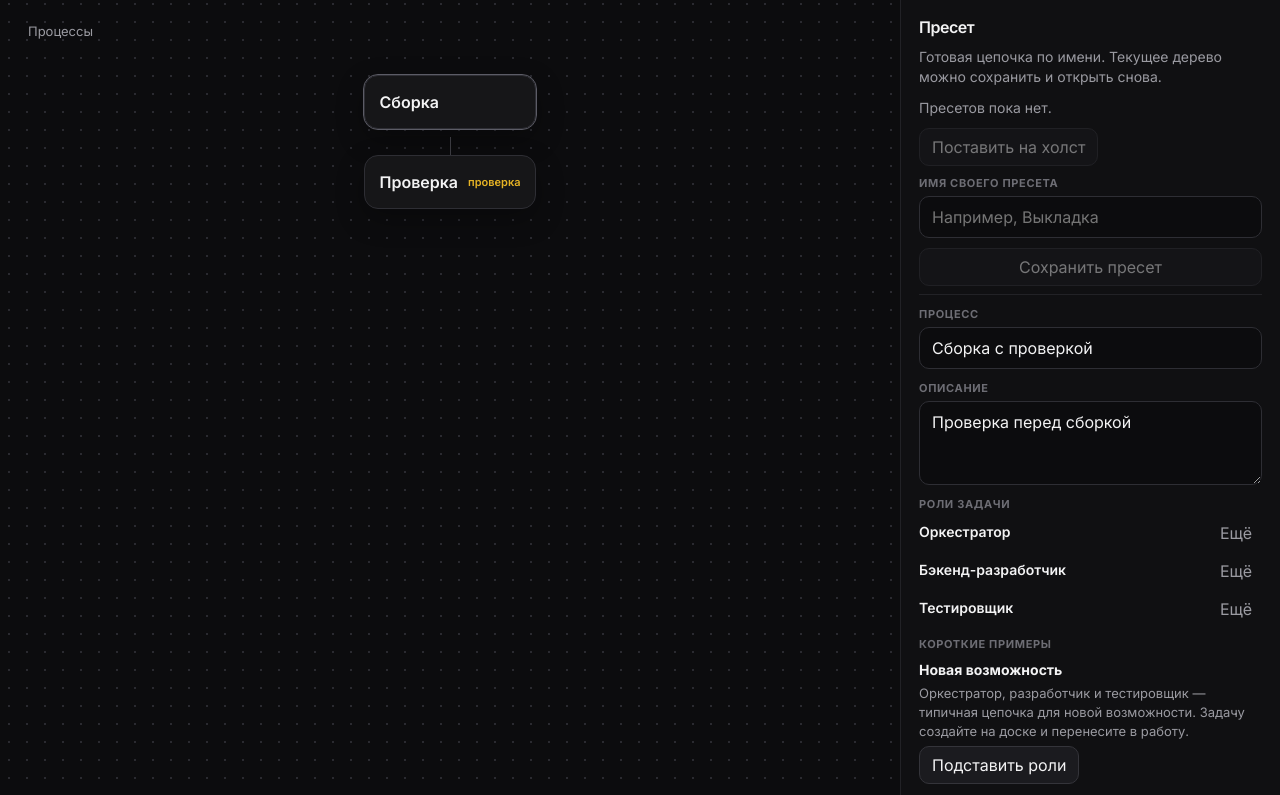
Test: Холст: роли, «Следом», «Ответвить» и уборка шага › убирает выбранный шаг и сохраняет цепочку
The image size is (1280, 795).
Check: the element with test id "canvas" is shown, box [364,75,536,209]
Click the button with test id "step-step-b" at (450, 182), box [364,155,536,209]
(page scrolled)
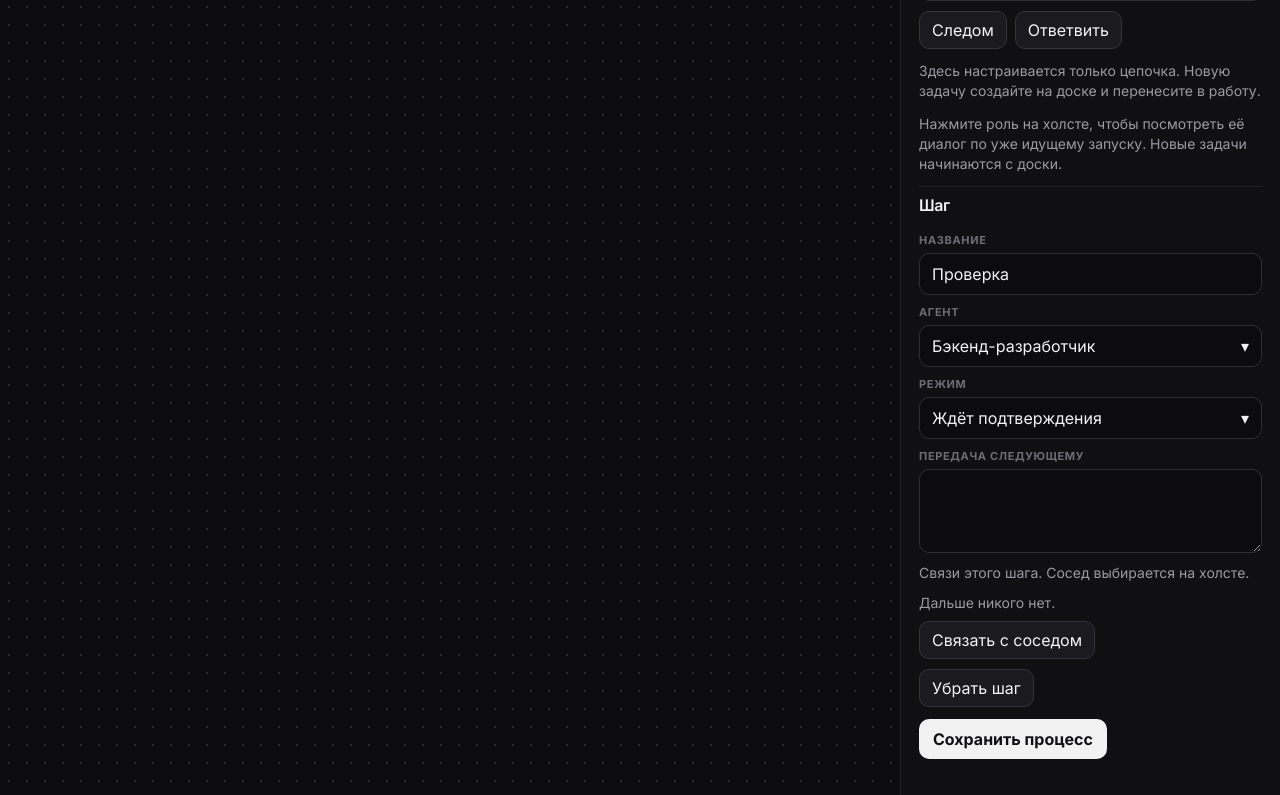
Click the button with test id "remove-step" at (976, 688), box [919,669,1034,707]
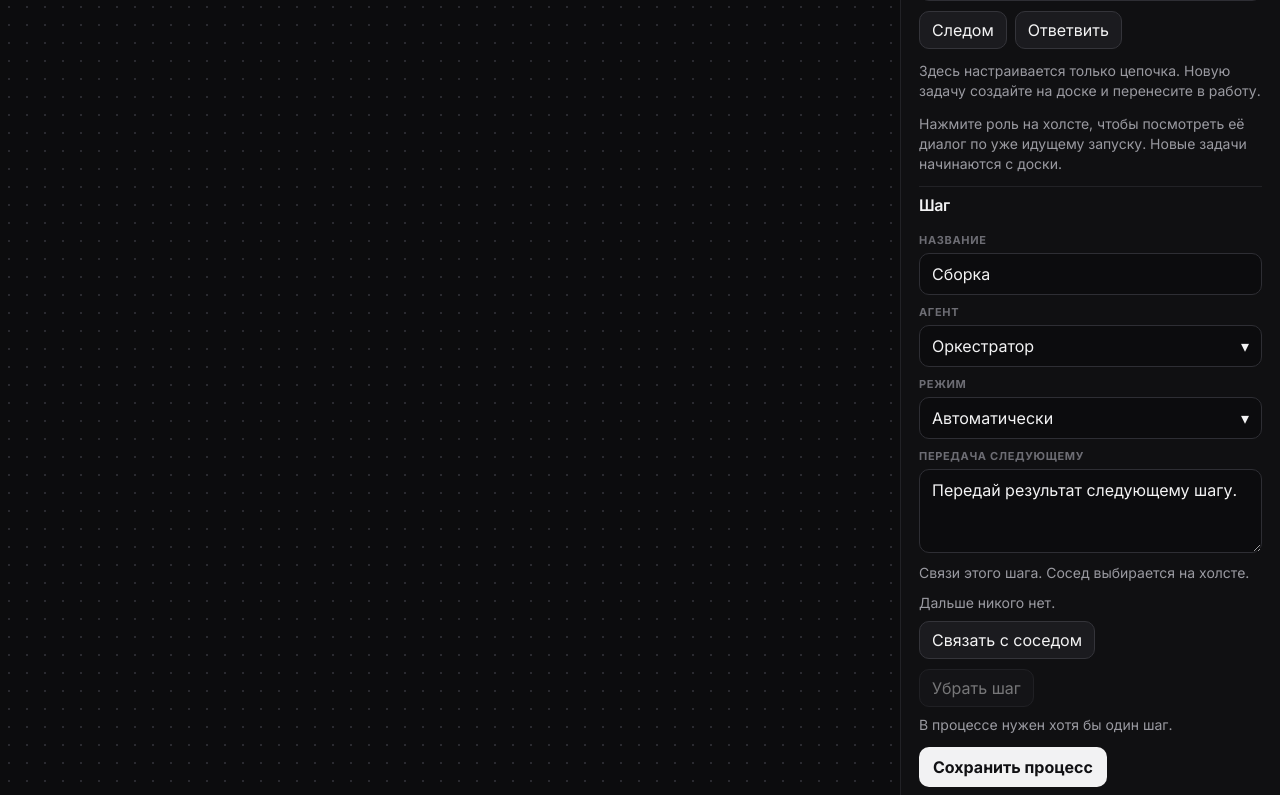
Check: the text with test id "remove-step-reason" shows "хотя бы один шаг", box [919,716,1172,733]
